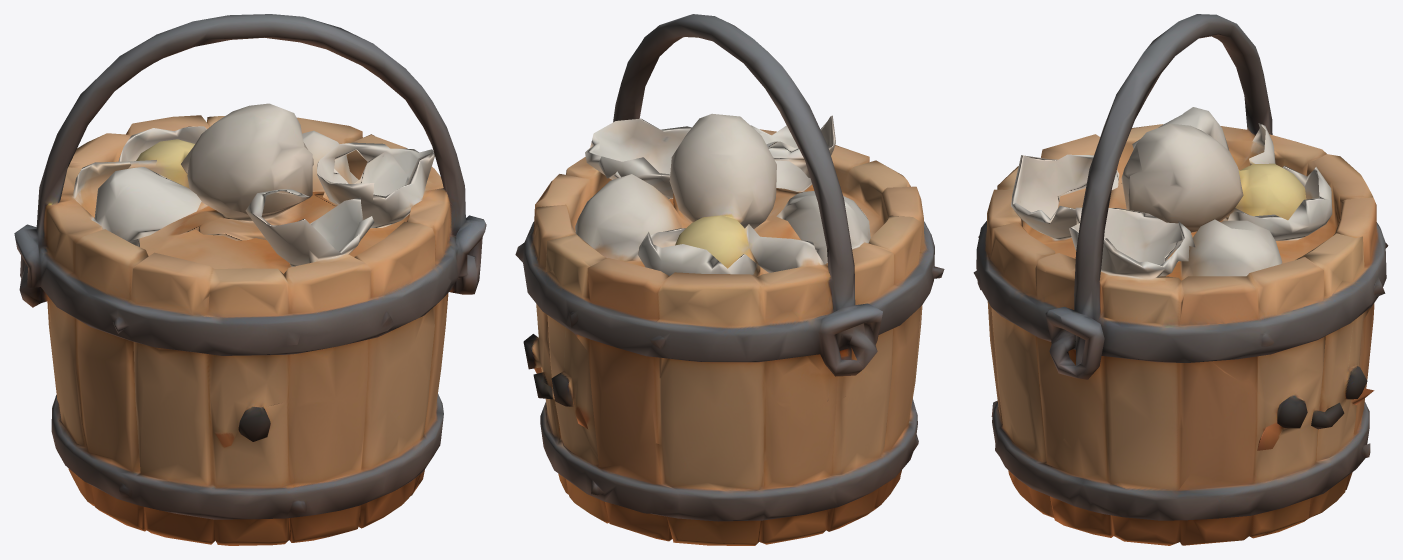
The model's file is bucket.glb.
The picture shows the model from 3 angles, left to right: view 1: azimuth 30°, elevation 25°; view 2: azimuth 150°, elevation 25°; view 3: azimuth 270°, elevation 25°; orthographic projection. The views are drawn at different scales.
Visible parts, largest first — view 1: tripo_node_1770b450-73a1-4574-ba3c-be3c0f7db19f; view 2: tripo_node_1770b450-73a1-4574-ba3c-be3c0f7db19f; view 3: tripo_node_1770b450-73a1-4574-ba3c-be3c0f7db19f.
Part boxes in pixels (left/top/right/bottom): tripo_node_1770b450-73a1-4574-ba3c-be3c0f7db19f: left=14, top=14, right=486, bottom=545; tripo_node_1770b450-73a1-4574-ba3c-be3c0f7db19f: left=515, top=14, right=944, bottom=545; tripo_node_1770b450-73a1-4574-ba3c-be3c0f7db19f: left=973, top=14, right=1388, bottom=545.
Size of the model in its own units: 0.8685 by 1 by 0.8453.
Materials: 1 (1 with a texture image).
